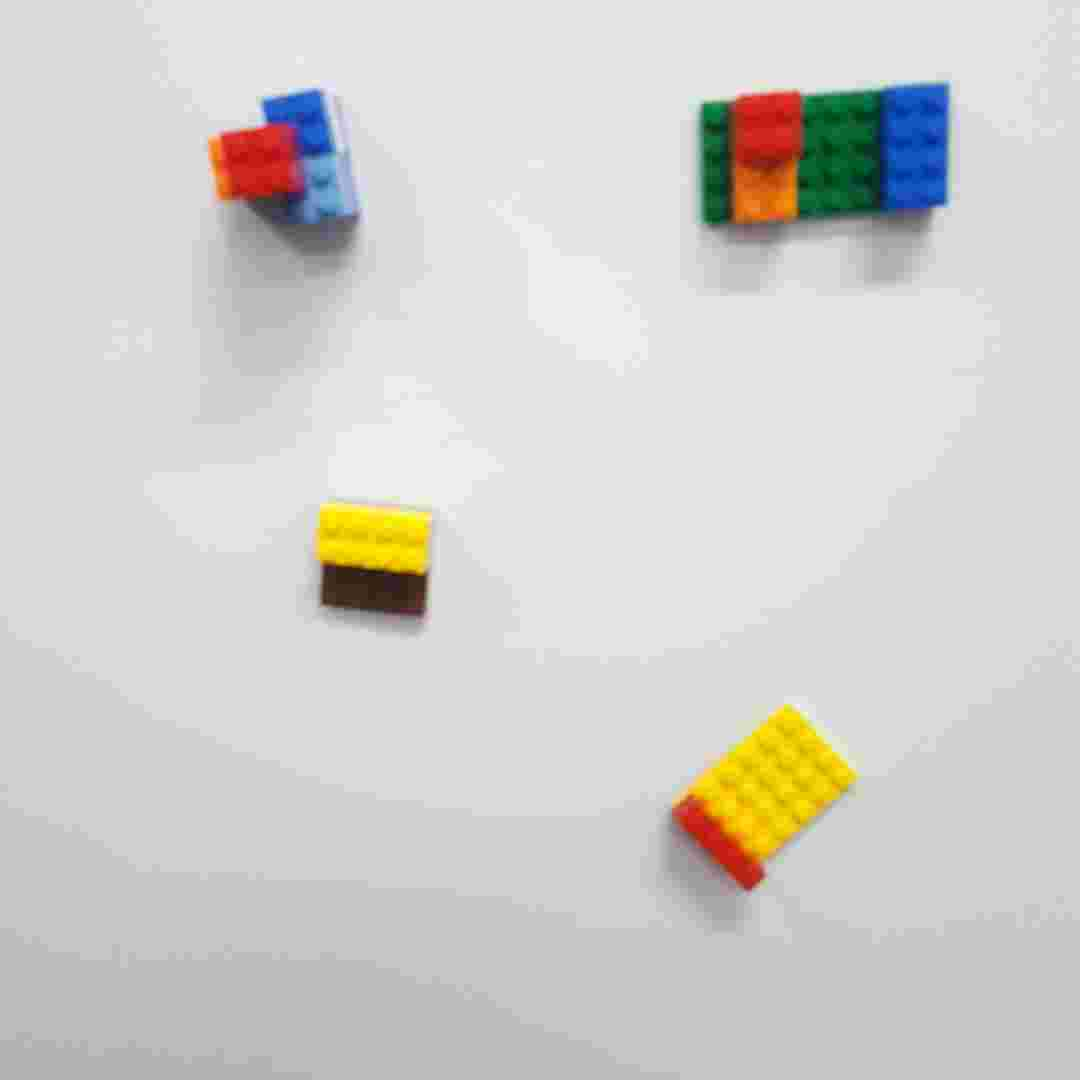LEGO: (687, 73, 958, 237), (657, 697, 863, 897), (212, 82, 371, 252), (312, 500, 437, 619)
